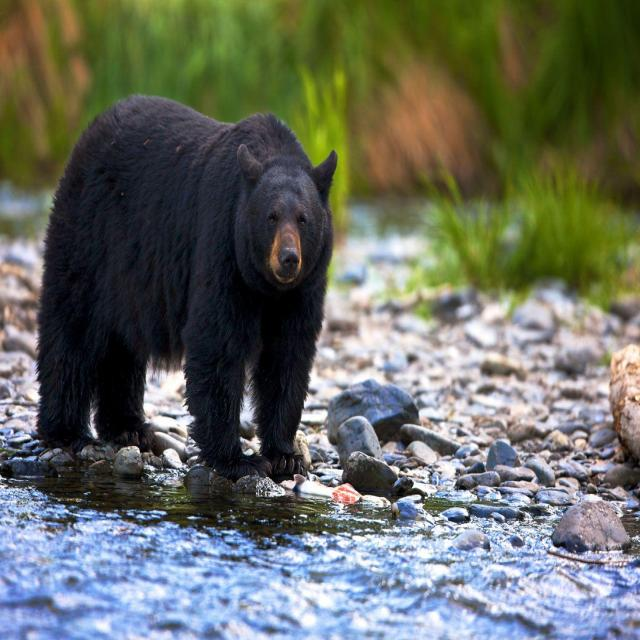Bear: (35, 94, 337, 487)
